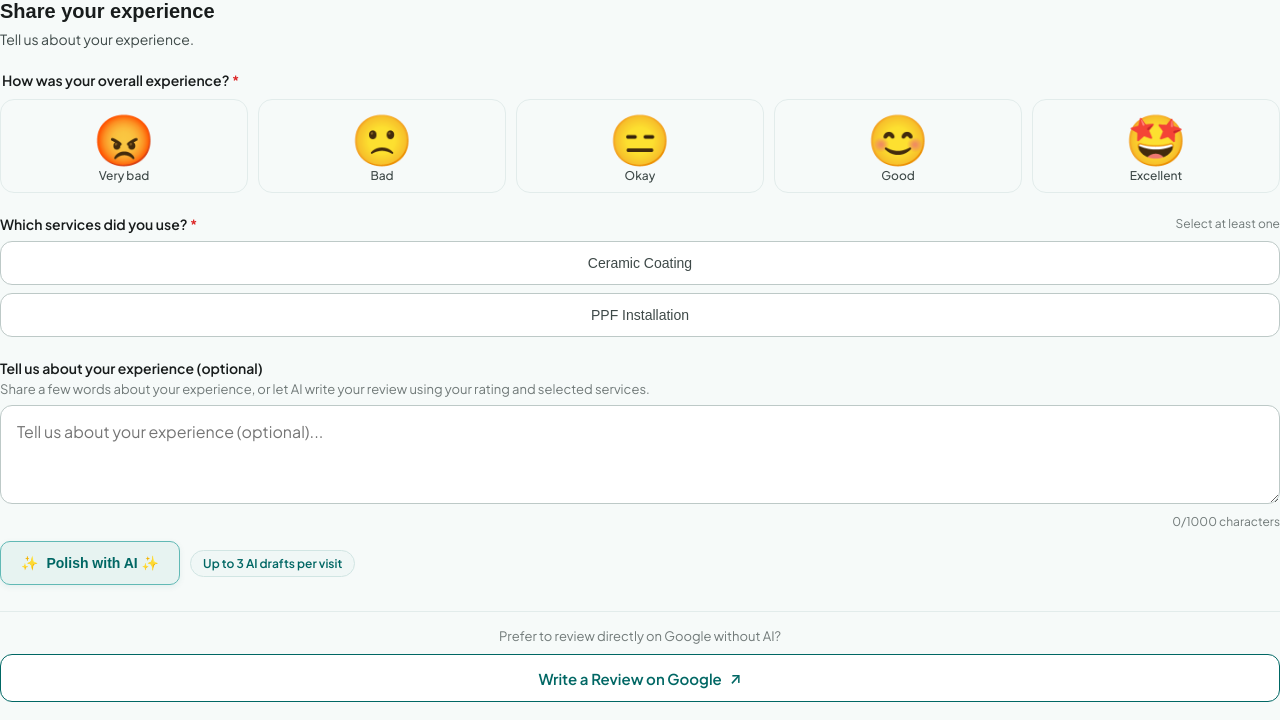
Test case: CustomerReviewFlow Component (Unified Review Journey) › 7. should enforce compulsory service selection before AI polishing can proceed
Select rating
Click the radio button with test id "star-5" at [1156, 146], box [1032,99,1279,193]
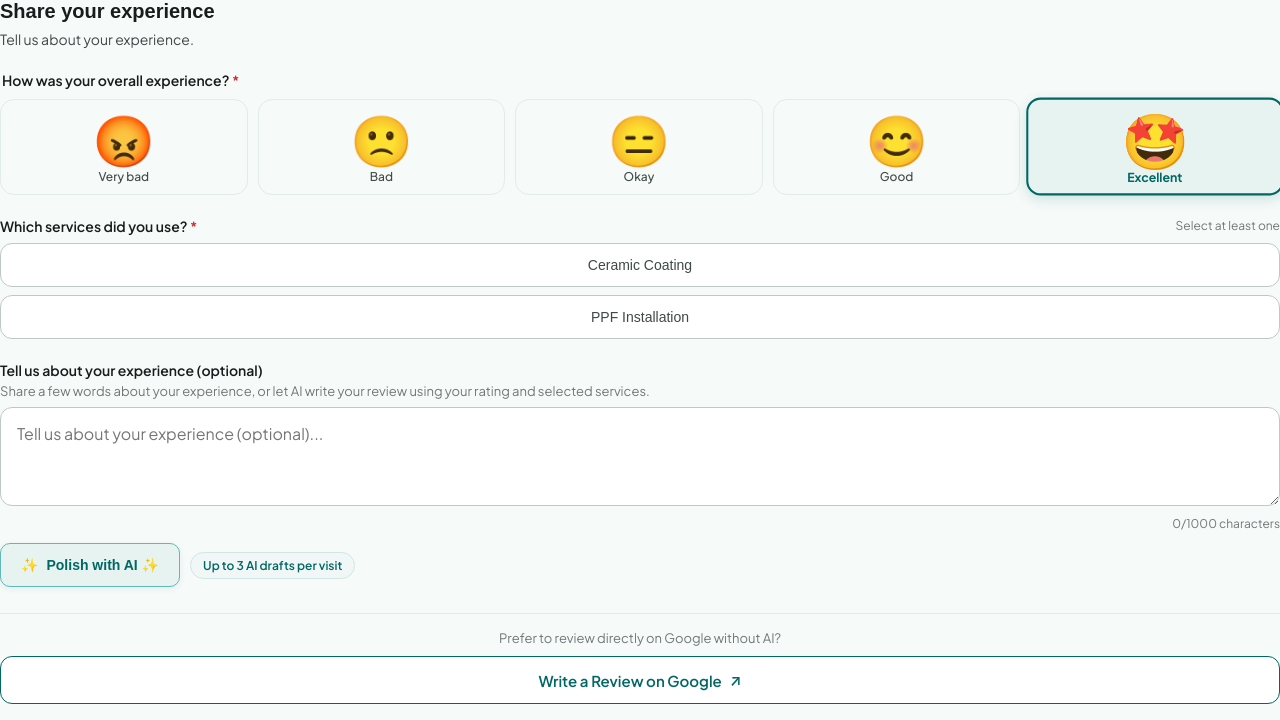
Provide 20 characters comment without selecting any services
Type "Outstanding service and friendly staff!" into the text box with placeholder "Tell us about your experience (optional)..." at [640, 456], box [0,407,1279,506]
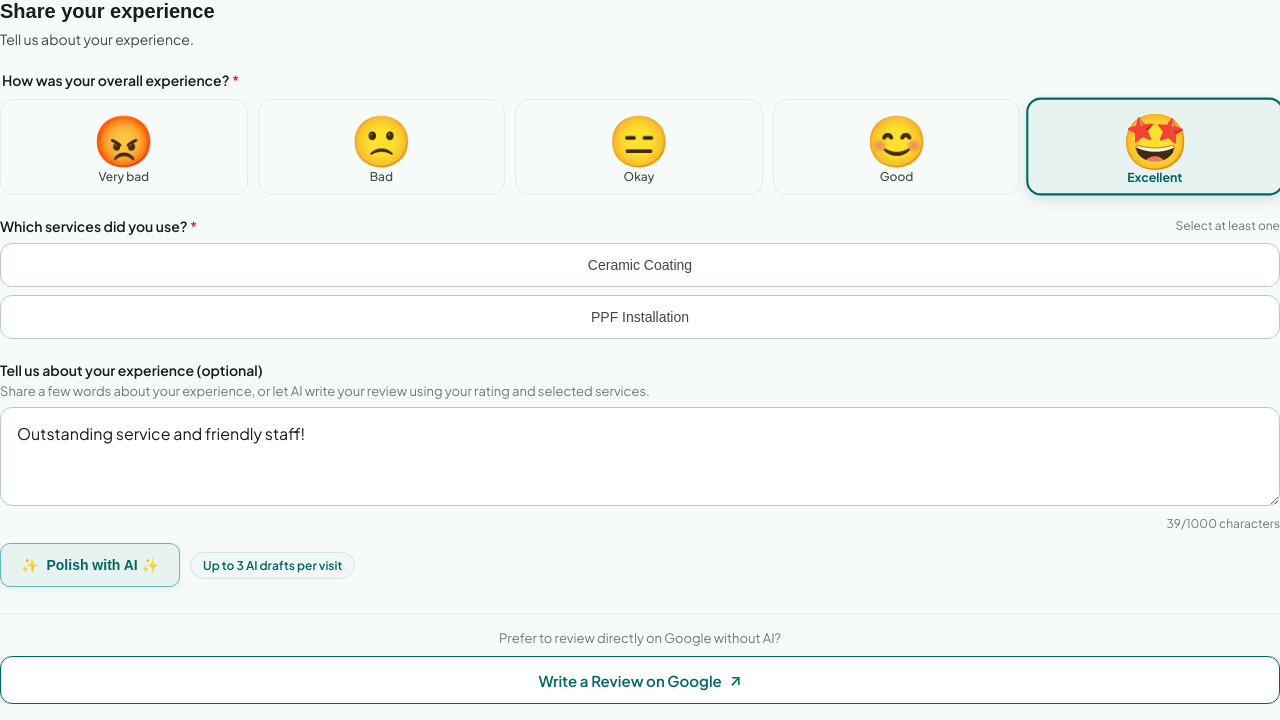
Click the button "✨ Polish with AI ✨" at [90, 565], box [0,543,180,587]
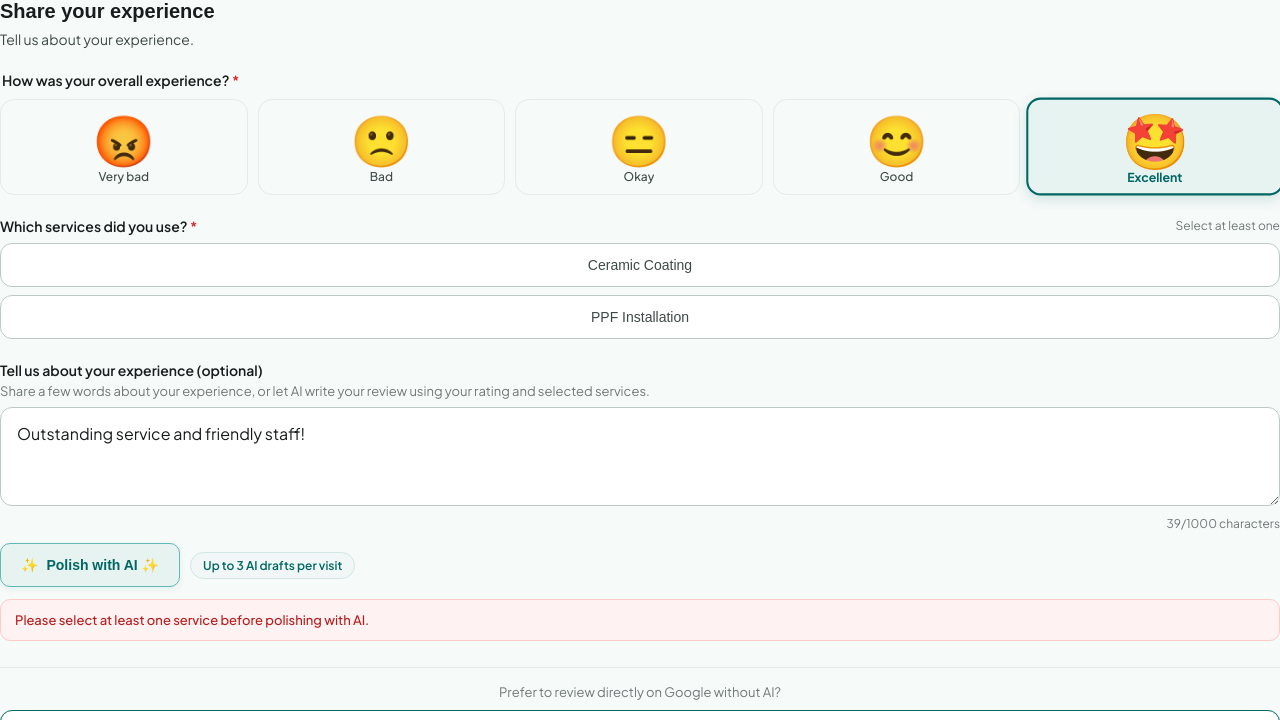
Result: the message with test id "ai-service-validation-error" reads "Please select at least one service before polishing with AI." at [15,612,369,628]
